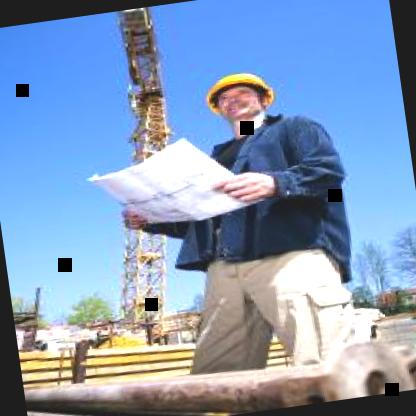helmet: (193, 56, 293, 135)
